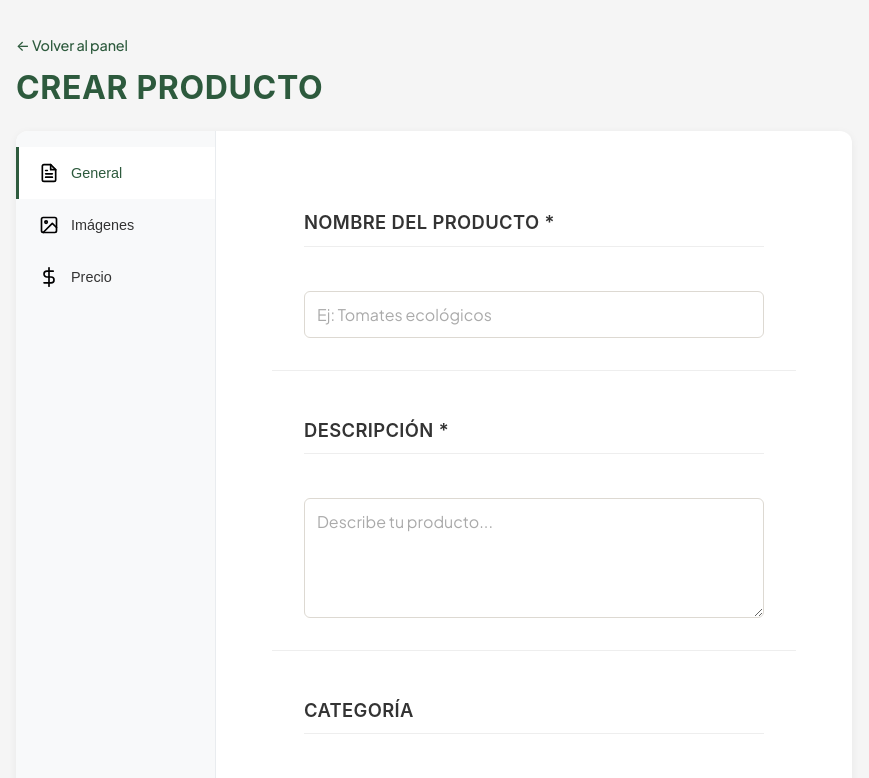
ProducerProductForm › Create product › shows add variant button when variants are enabled
Click the button "Precio". click: (116, 277)
box: [16, 251, 215, 303]
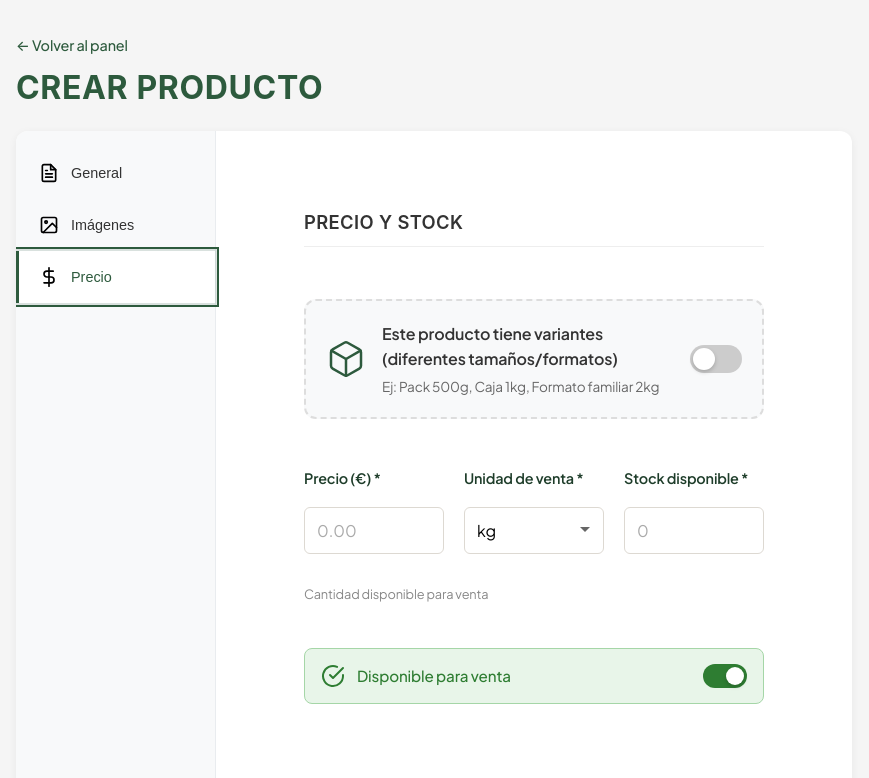
Check: the 1st checkbox is shown
Click the 1st checkbox. click: (534, 359)
box: [326, 320, 742, 397]
(page scrolled)
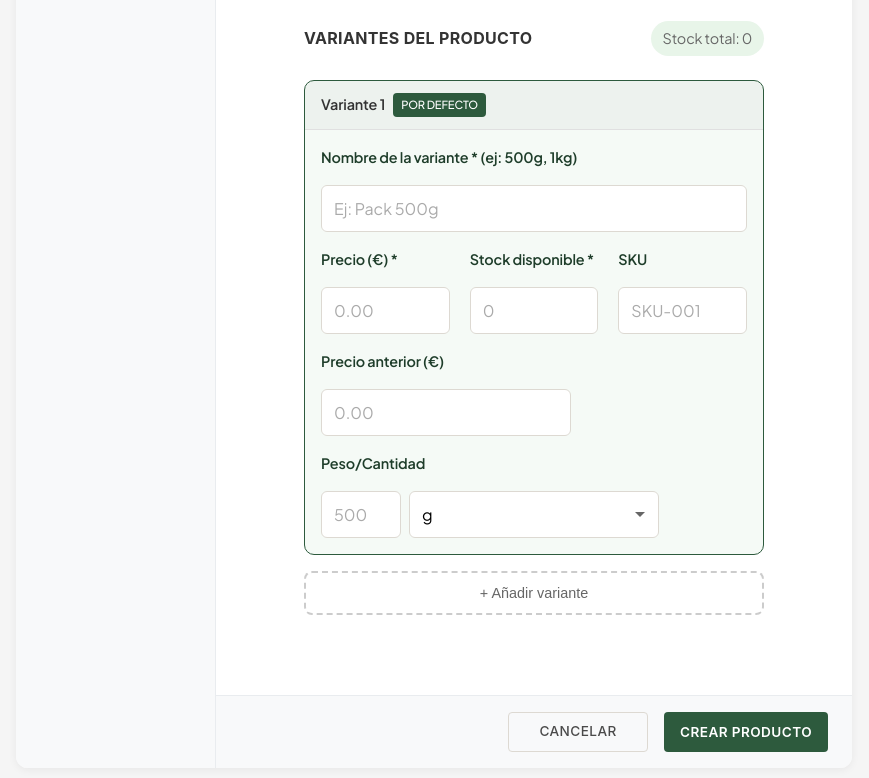
Check: the button "+ Añadir variante" is shown, box [304, 571, 764, 615]
